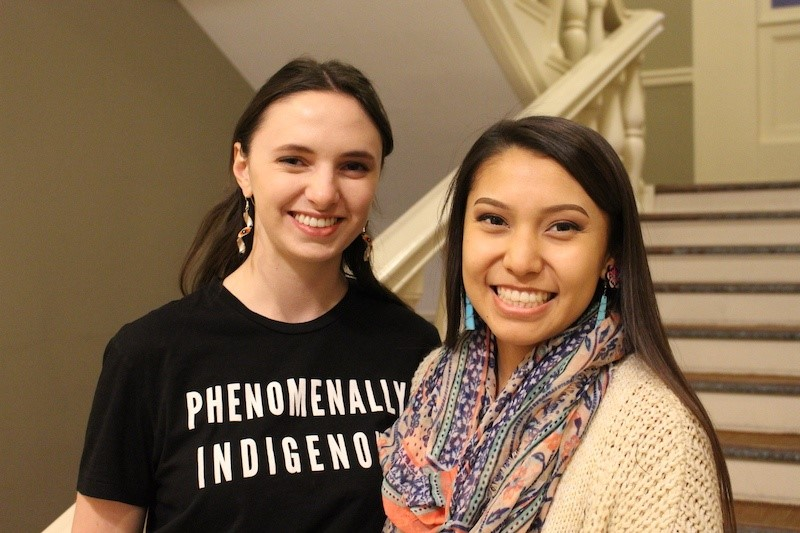face_no_mask: (450, 118, 623, 345), (231, 60, 392, 263)
